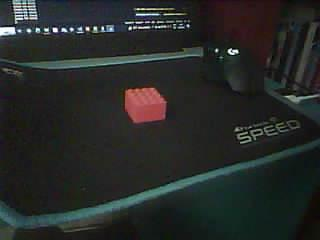lego: (124, 87, 167, 124)
